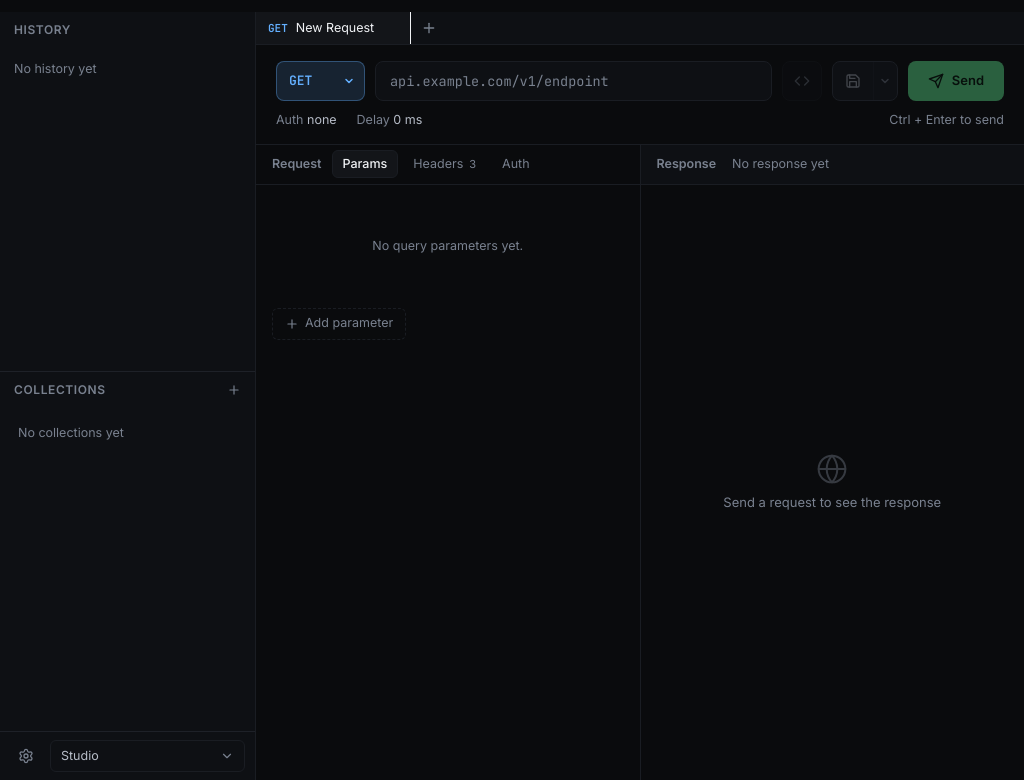
Test case: composer menus › opens the Copy as code menu and lists the generators
In the field named "Request URL": (573, 81) [390,71,757,91], type "https://api.stripe.com/v1/charges"
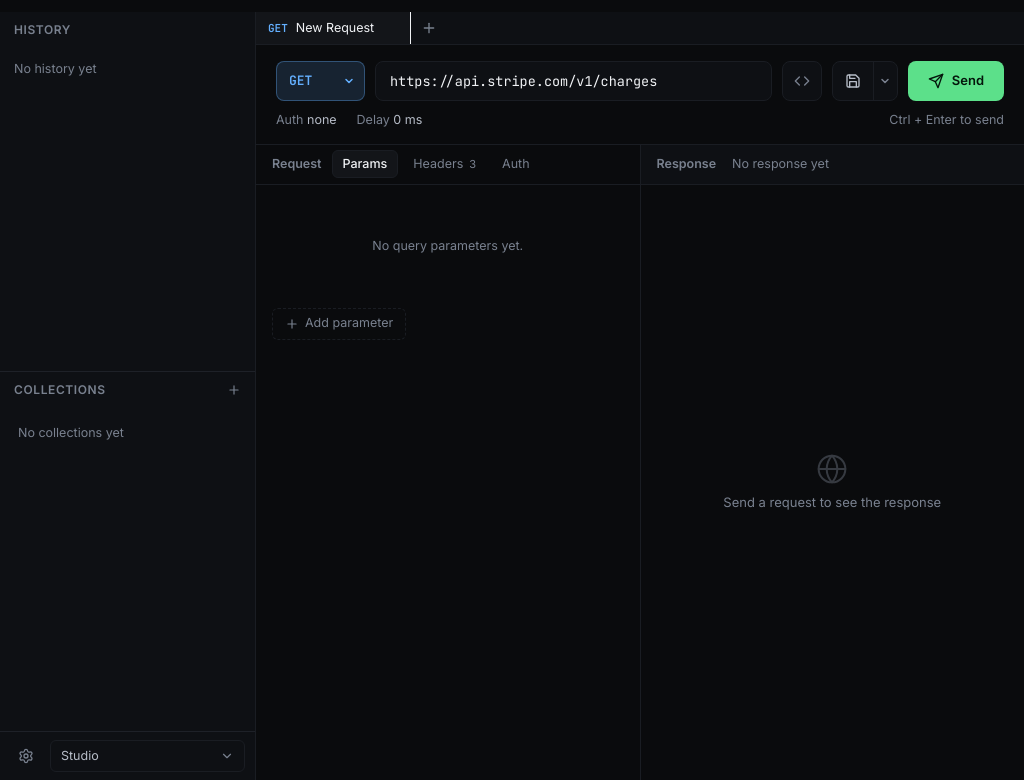
Click the button named "Copy as code": (802, 81) [782,61,822,101]
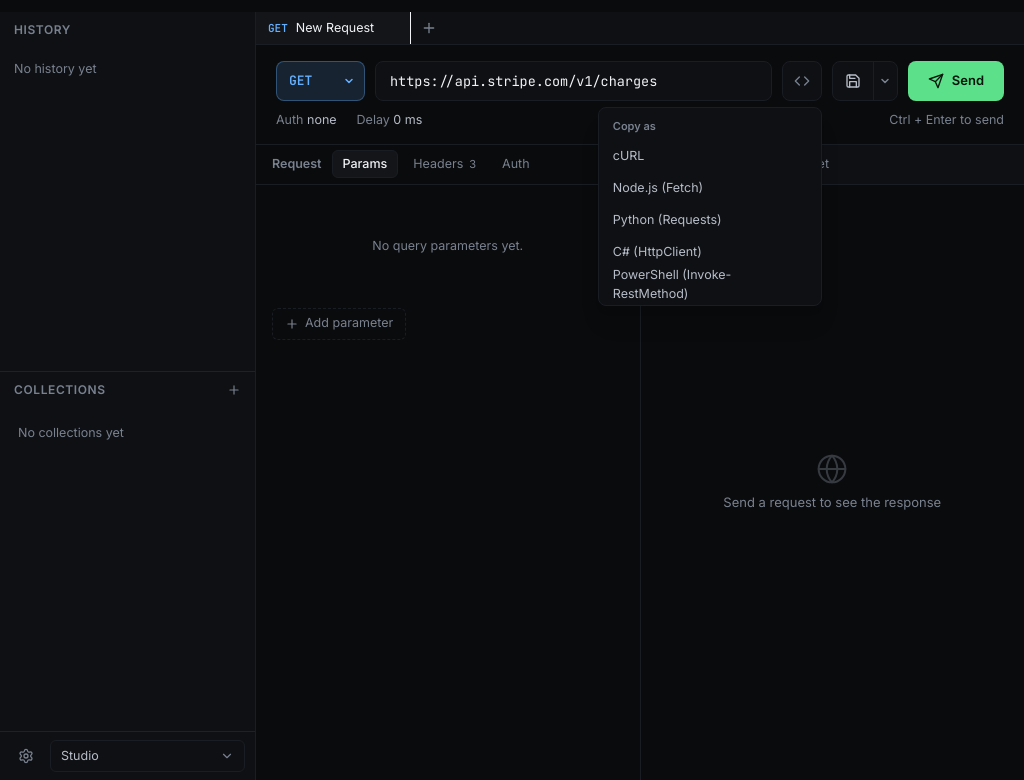
Check: the text "Copy as" is shown, box [613,119,656,133]
Check: the button "cURL" is shown, box [603,140,817,172]
Check: the button "Node.js (Fetch)" is shown, box [603,172,817,204]
